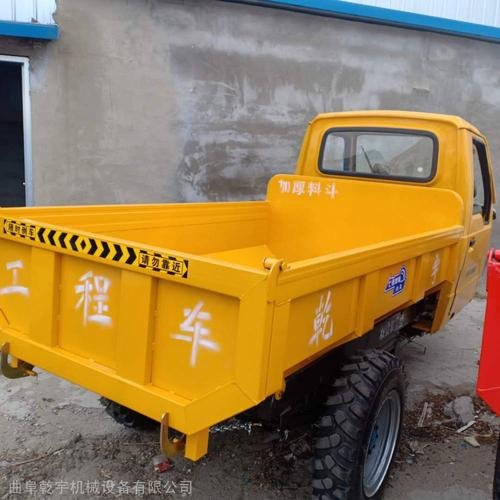empty: (2, 68, 494, 492)
